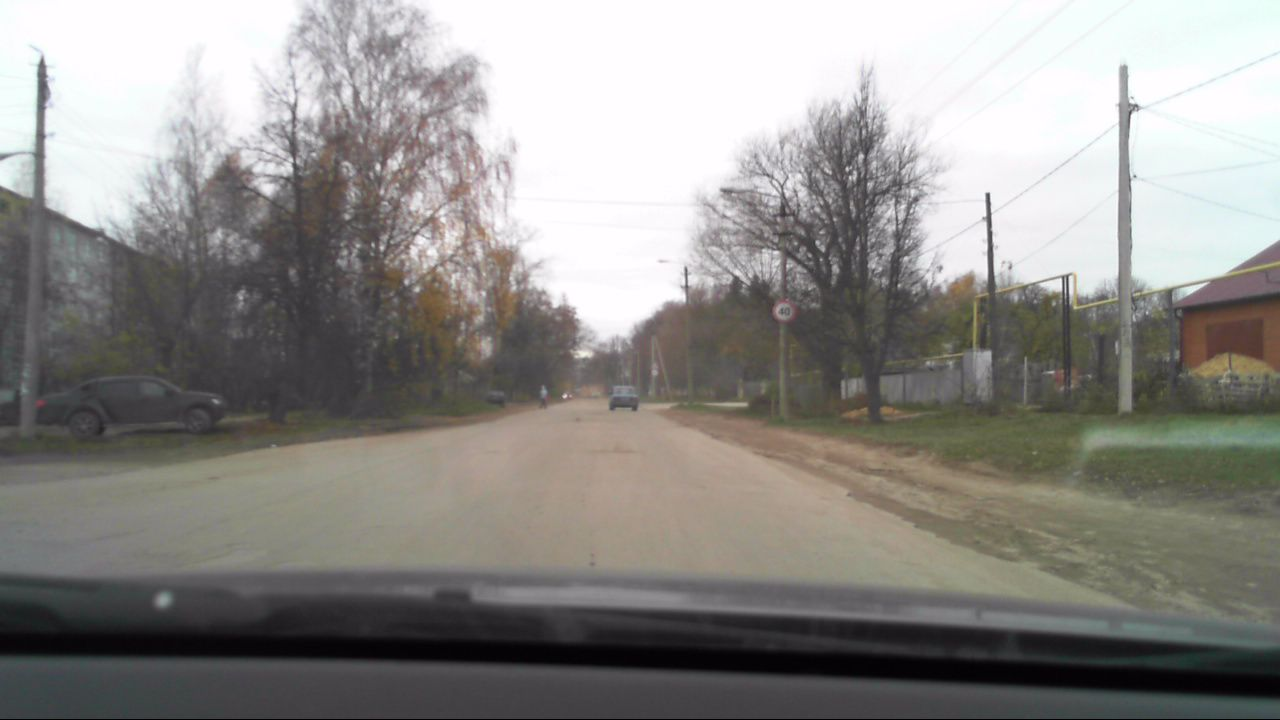speed_warning_40: (770, 298, 794, 321)
